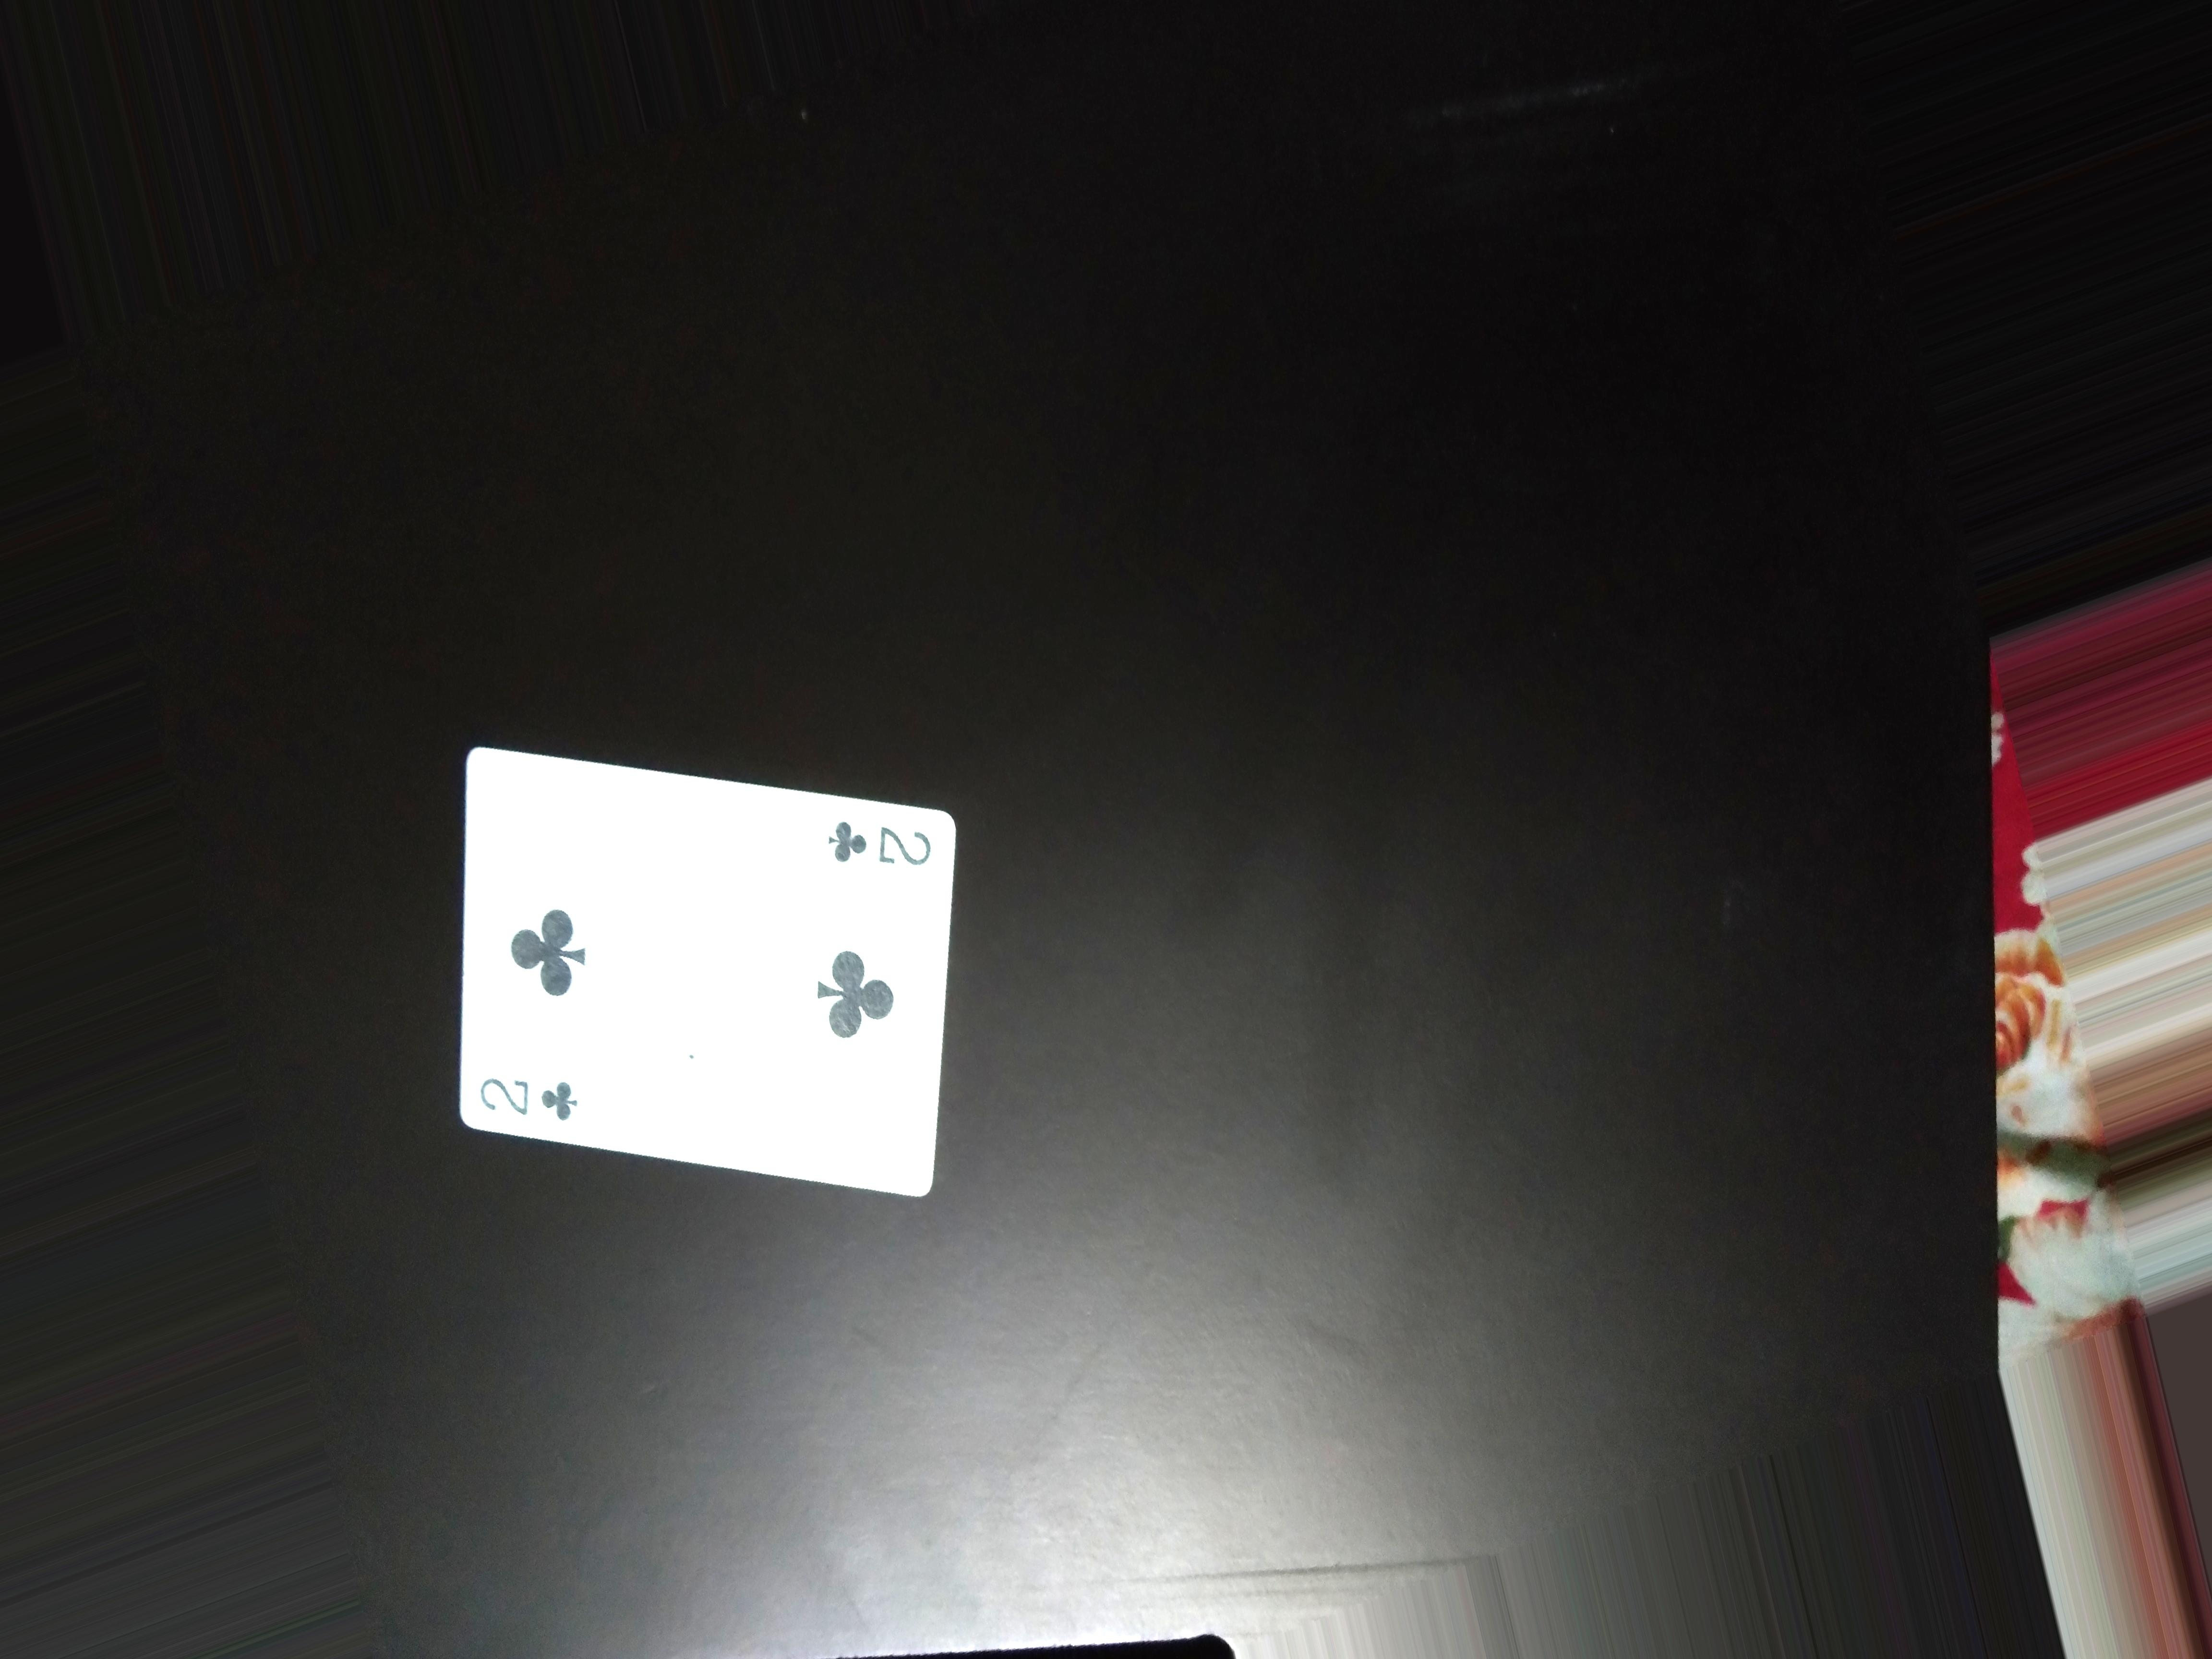2C: (812, 819, 930, 873)
